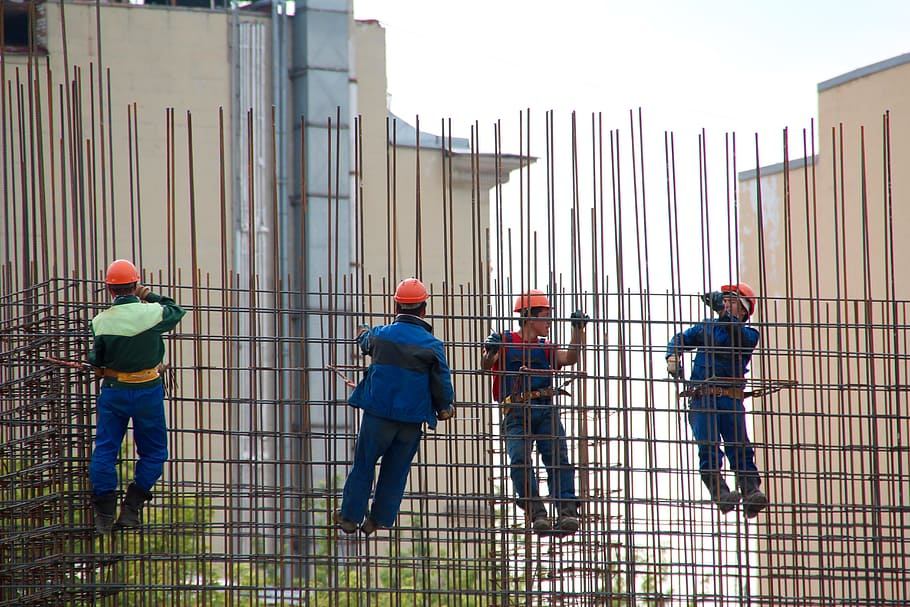Hard Hat: (512, 291, 552, 337), (104, 259, 142, 304), (392, 279, 430, 323), (718, 284, 757, 324)
Person: (329, 281, 456, 532), (486, 291, 595, 536), (92, 259, 184, 533), (679, 283, 768, 517)
